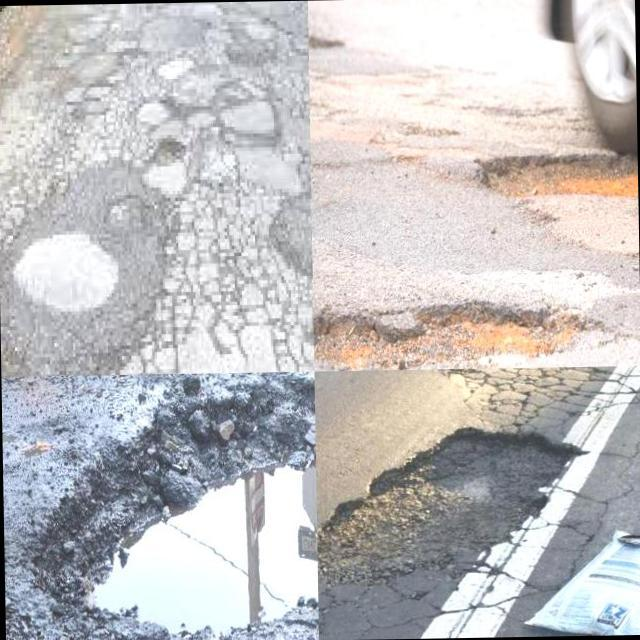Pothole: (34, 372, 318, 632), (317, 429, 588, 594), (2, 206, 144, 357), (313, 303, 599, 371), (476, 153, 638, 198), (136, 99, 183, 166)
